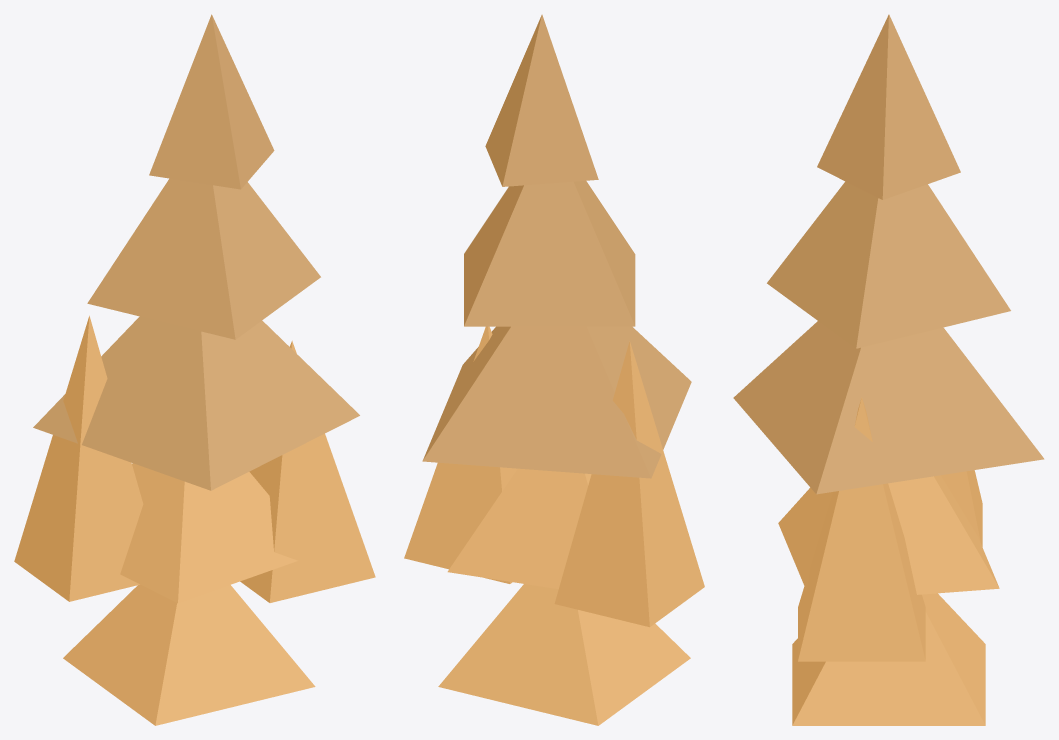
The model's file is 08_memory_world_mountain.glb.
3 views of the same model, side by side, from view 1: azimuth 30°, elevation 25°; view 2: azimuth 150°, elevation 25°; view 3: azimuth 270°, elevation 25° (orthographic). The views are drawn at different scales.
Parts seen in each view (by area): view 1: World_mountain_MountainRidge_3, World_mountain_MountainRidge_4, World_mountain_MountainRidge_1, World_mountain_SubPeak_1, World_mountain_MountainRidge_2, World_mountain_SubPeak_2, World_mountain_MountainRidge_5; view 2: World_mountain_MountainRidge_3, World_mountain_MountainRidge_4, World_mountain_MountainRidge_1, World_mountain_SubPeak_1, World_mountain_MountainRidge_2, World_mountain_MountainRidge_5, World_mountain_SubPeak_2; view 3: World_mountain_MountainRidge_3, World_mountain_MountainRidge_4, World_mountain_SubPeak_2, World_mountain_MountainRidge_1, World_mountain_MountainRidge_5, World_mountain_MountainRidge_2, World_mountain_SubPeak_1.
Part boxes in pixels (bbox=[...]): World_mountain_MountainRidge_3: bbox=[33, 316, 359, 490]; World_mountain_MountainRidge_4: bbox=[87, 178, 320, 339]; World_mountain_MountainRidge_1: bbox=[63, 584, 315, 725]; World_mountain_SubPeak_1: bbox=[14, 315, 143, 601]; World_mountain_MountainRidge_2: bbox=[120, 463, 297, 603]; World_mountain_SubPeak_2: bbox=[240, 340, 375, 602]; World_mountain_MountainRidge_5: bbox=[149, 14, 274, 189]; World_mountain_MountainRidge_3: bbox=[422, 326, 691, 478]; World_mountain_MountainRidge_4: bbox=[464, 180, 635, 326]; World_mountain_MountainRidge_1: bbox=[438, 584, 690, 725]; World_mountain_SubPeak_1: bbox=[554, 341, 704, 627]; World_mountain_MountainRidge_2: bbox=[447, 468, 591, 589]; World_mountain_MountainRidge_5: bbox=[485, 14, 598, 186]; World_mountain_SubPeak_2: bbox=[404, 326, 517, 583]; World_mountain_MountainRidge_3: bbox=[733, 321, 1044, 494]; World_mountain_MountainRidge_4: bbox=[767, 181, 1010, 348]; World_mountain_SubPeak_2: bbox=[798, 397, 925, 661]; World_mountain_MountainRidge_1: bbox=[792, 593, 985, 725]; World_mountain_MountainRidge_5: bbox=[817, 14, 960, 199]; World_mountain_MountainRidge_2: bbox=[778, 475, 999, 594]; World_mountain_SubPeak_1: bbox=[941, 470, 982, 546].
Bounding box in the file's own units: 0.7287 × 1.67 × 0.6888.
